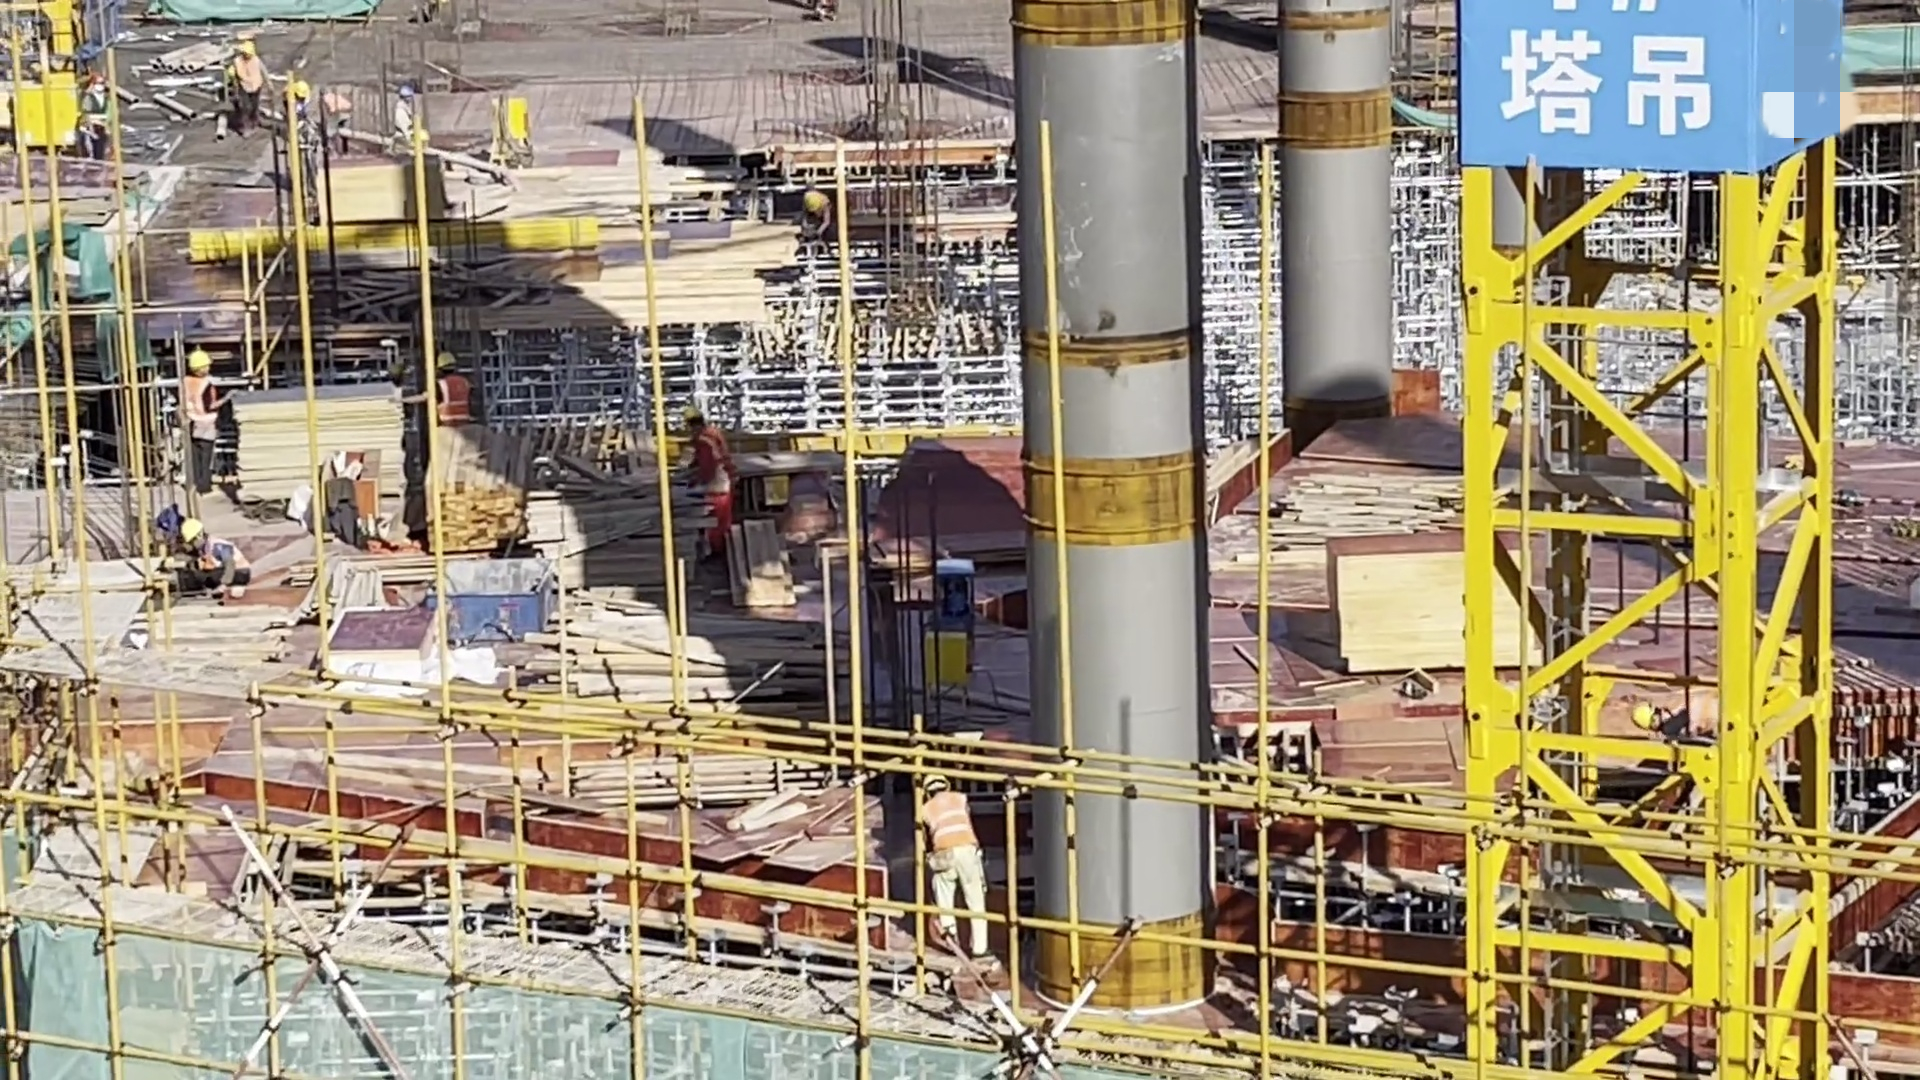board: (1324, 491, 1598, 682), (229, 382, 411, 512), (329, 147, 456, 234)
cutter: (856, 514, 968, 659)
ebox: (19, 72, 111, 142), (934, 632, 1004, 707), (516, 121, 564, 144)
helmet: (680, 401, 709, 432), (182, 512, 201, 545), (1641, 692, 1656, 727), (805, 184, 823, 212), (925, 774, 955, 790), (290, 75, 308, 100), (191, 354, 207, 379), (401, 82, 415, 100), (92, 73, 107, 90), (236, 45, 253, 57), (443, 350, 451, 370)
hopper: (421, 546, 568, 641)
person: (911, 758, 1001, 956), (1631, 693, 1728, 801), (174, 345, 233, 498), (686, 403, 743, 545), (168, 508, 244, 601), (78, 68, 123, 168), (228, 34, 269, 141), (278, 78, 328, 159), (429, 343, 478, 415), (383, 87, 440, 148), (797, 183, 833, 254)
vest: (913, 782, 983, 860), (1662, 691, 1741, 759), (692, 429, 734, 499), (183, 381, 221, 445), (203, 538, 244, 586), (435, 373, 479, 417), (235, 59, 268, 99), (392, 105, 425, 142), (802, 203, 836, 237), (292, 103, 315, 152), (84, 92, 107, 138)
wood: (571, 606, 878, 704), (521, 484, 704, 609), (414, 444, 536, 554)
